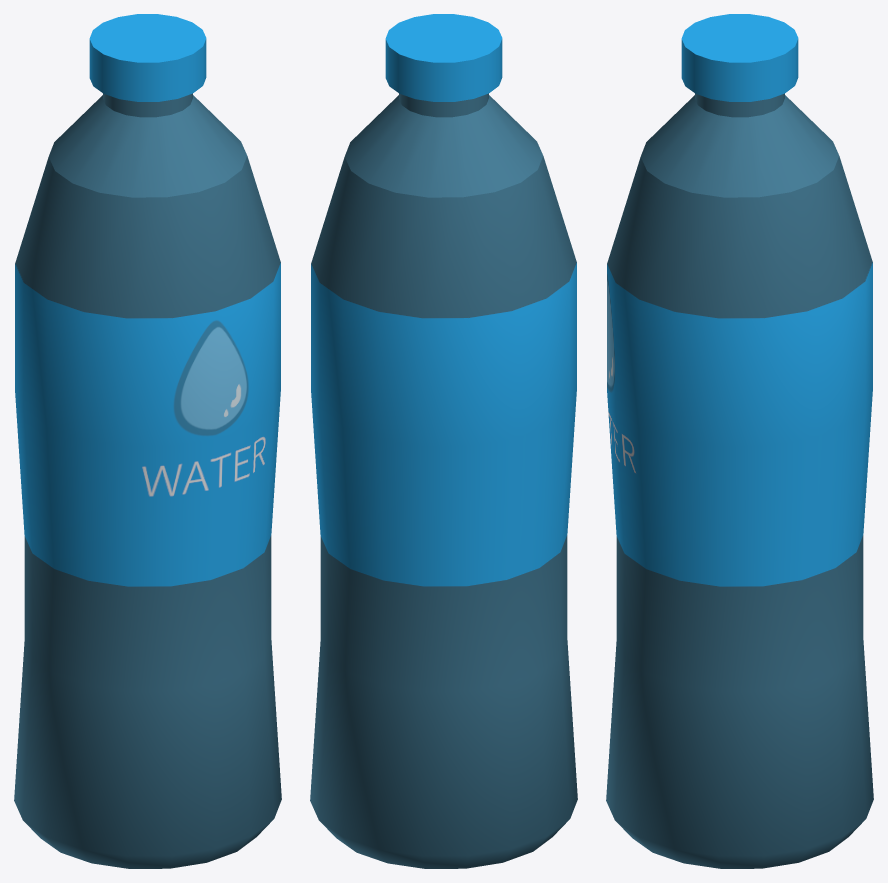
Rendered from WaterBottleEmbeddedReupload.fbx.
The picture shows the model from 3 angles, left to right: view 1: azimuth 30°, elevation 25°; view 2: azimuth 150°, elevation 25°; view 3: azimuth 270°, elevation 25°; orthographic projection.
Parts seen in each view (by area): view 1: WaterBottle_Embedded; view 2: WaterBottle_Embedded; view 3: WaterBottle_Embedded.
Boxes of the visible parts, bbox=[...] form: WaterBottle_Embedded: bbox=[14, 14, 281, 868]; WaterBottle_Embedded: bbox=[310, 14, 577, 868]; WaterBottle_Embedded: bbox=[606, 14, 873, 868].
Size of the model in its own units: 2.89 by 9.45 by 2.93.
